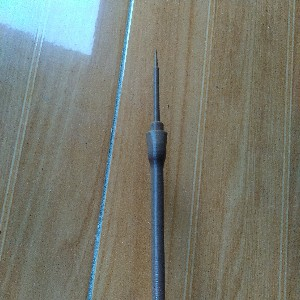solder: (144, 48, 169, 300)
